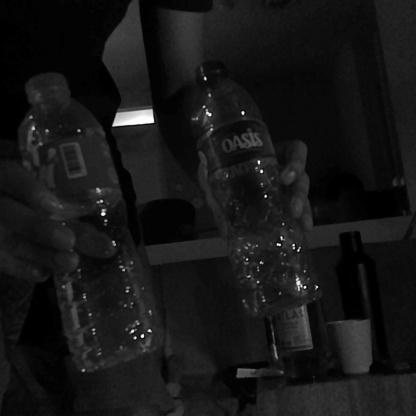plastic_bottles: (21, 72, 165, 367), (184, 63, 314, 299)
